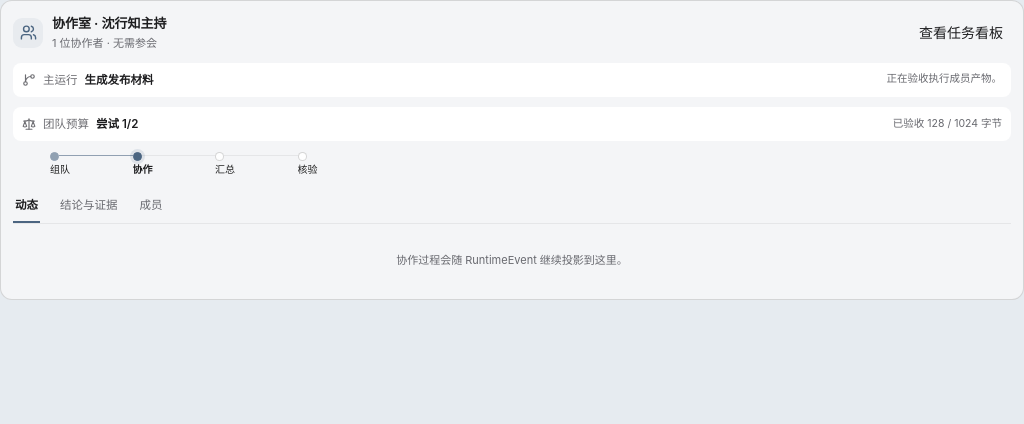
Test case: execution collaboration room › shows each member's scoped tools, workspace, and accepted artifacts
Click the button "成员" at (151, 205), box [138,187,164,223]
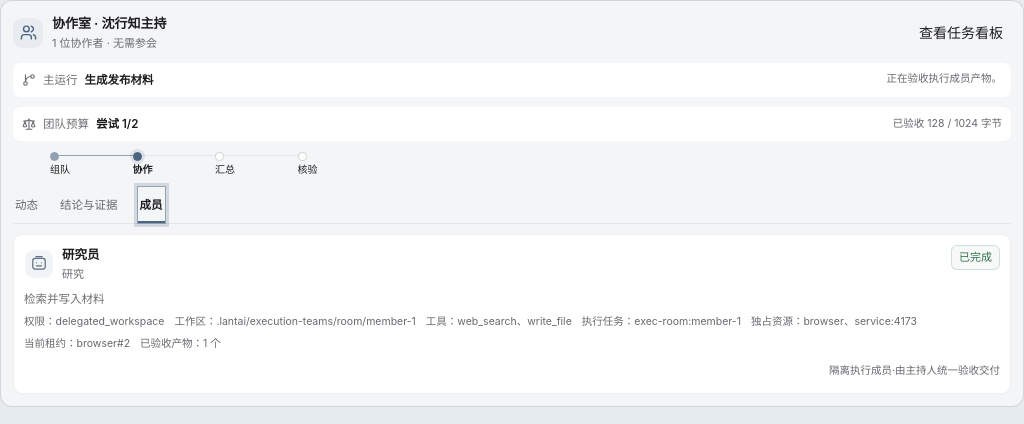
Now the text "权限：delegated_workspace" is shown, box [24,314,164,331]
Now the text "工作区：.lantai/execution-teams/room/member-1" is shown, box [174,314,416,331]
Now the text "工具：web_search、write_file" is shown, box [426,314,572,331]
